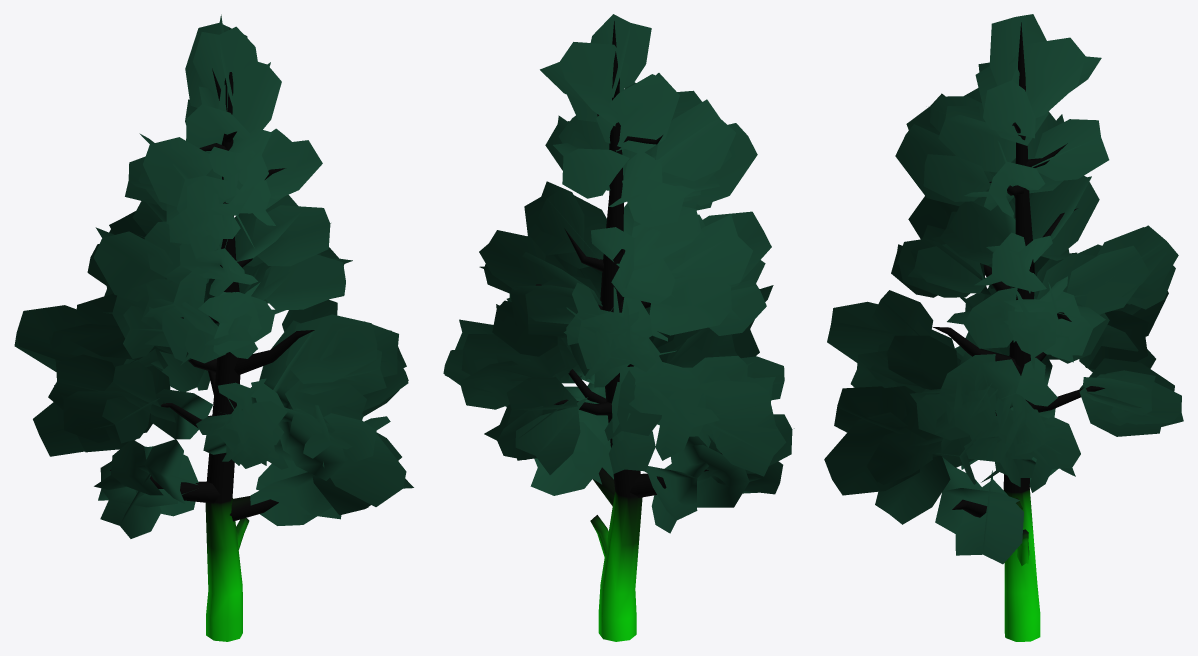
The model's file is SM_FirTree5.fbx.
The picture shows the model from 3 angles, left to right: view 1: azimuth 30°, elevation 25°; view 2: azimuth 150°, elevation 25°; view 3: azimuth 270°, elevation 25°; orthographic projection.
Parts seen in each view (by area): view 1: SM_FirTree5_LOD0; view 2: SM_FirTree5_LOD0; view 3: SM_FirTree5_LOD0.
Boxes of the visible parts, <box> form: SM_FirTree5_LOD0: <box>14,14,413,641</box>; SM_FirTree5_LOD0: <box>443,14,794,641</box>; SM_FirTree5_LOD0: <box>824,14,1183,641</box>.
Size of what is drawn, in the model's own units: 1351 by 2297 by 1213.
